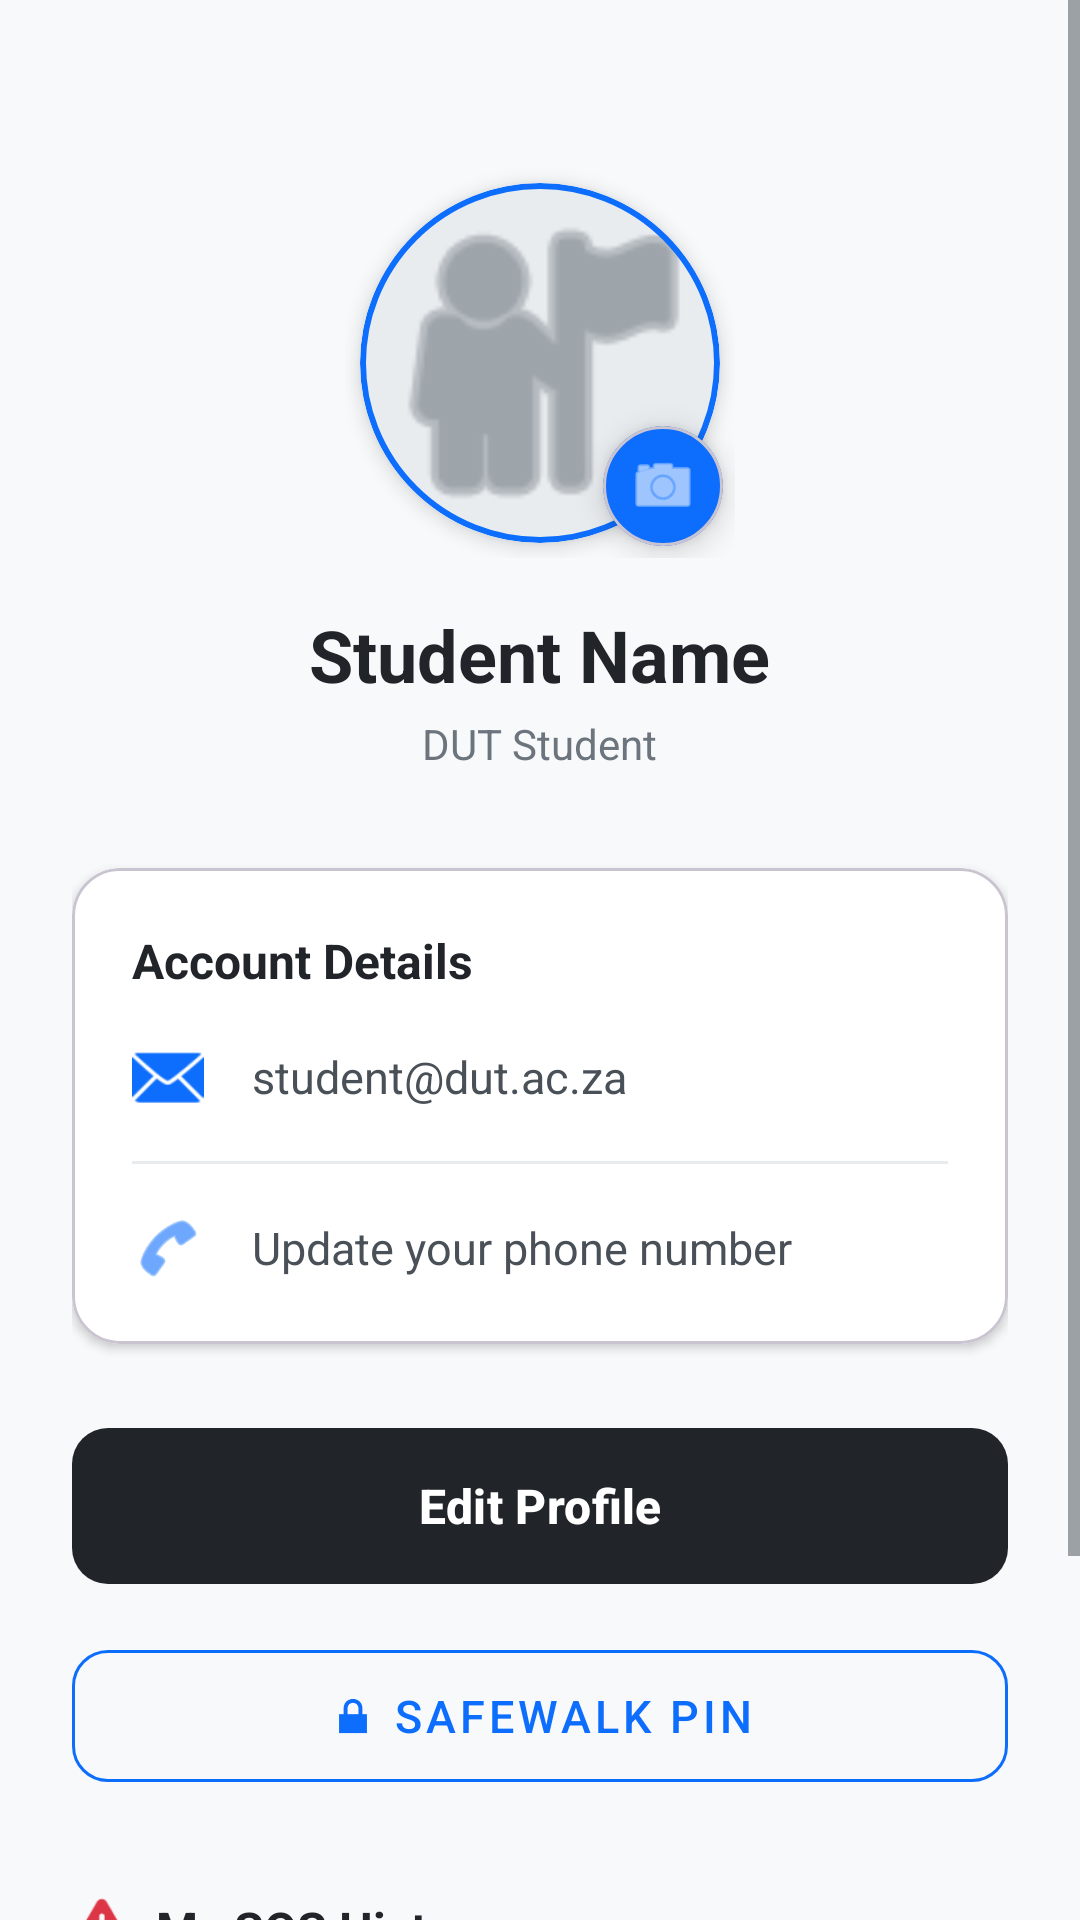

Named icons in this screenshot (1080w x 1920h) and their centers, (x,y):
call: (168,1248)
email: (168,1077)
